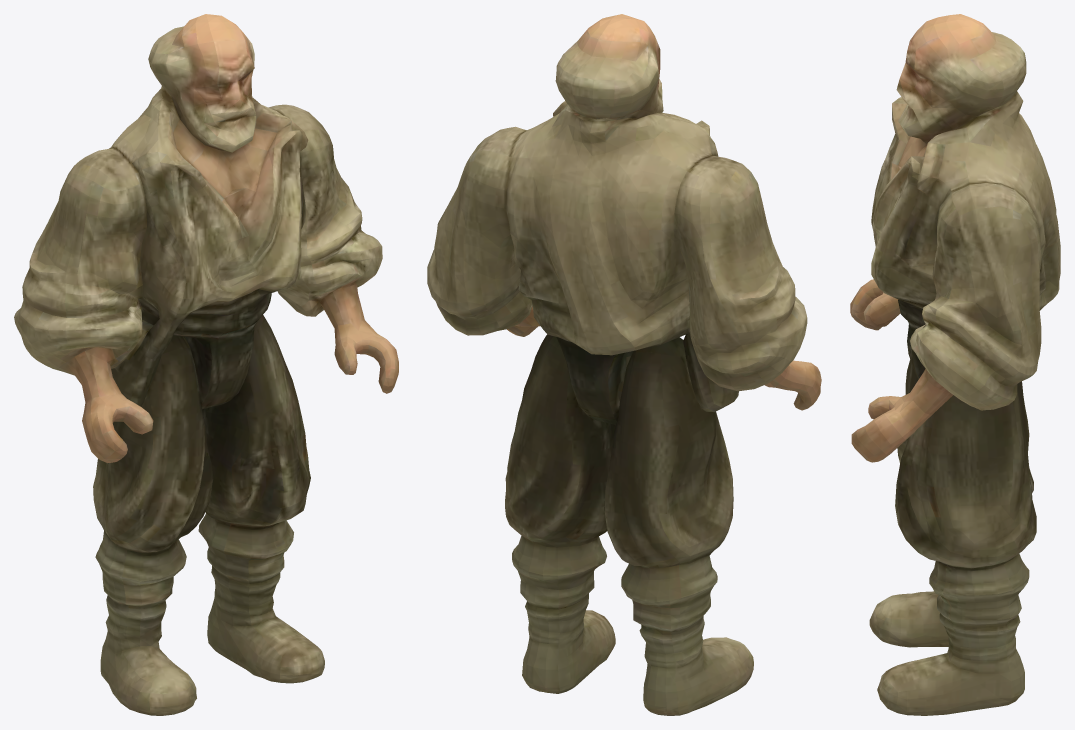
The model's file is villager_grizzled.glb.
3 renders of one model, left to right at view 1: azimuth 30°, elevation 25°; view 2: azimuth 150°, elevation 25°; view 3: azimuth 270°, elevation 25°, orthographic.
Size of the model in its own units: 1.08 by 1.91 by 0.5519.
Materials: 1 (1 with a texture image).
